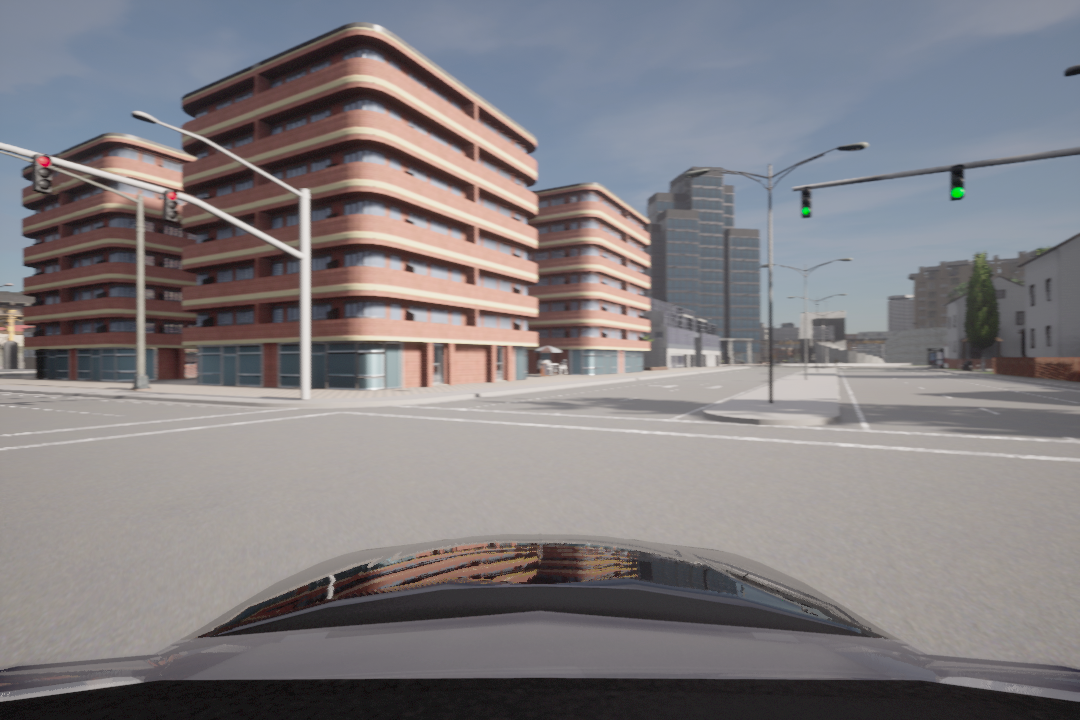TrafficLight: (30, 152, 56, 192), (947, 164, 970, 204), (797, 184, 813, 218), (164, 187, 181, 219)
